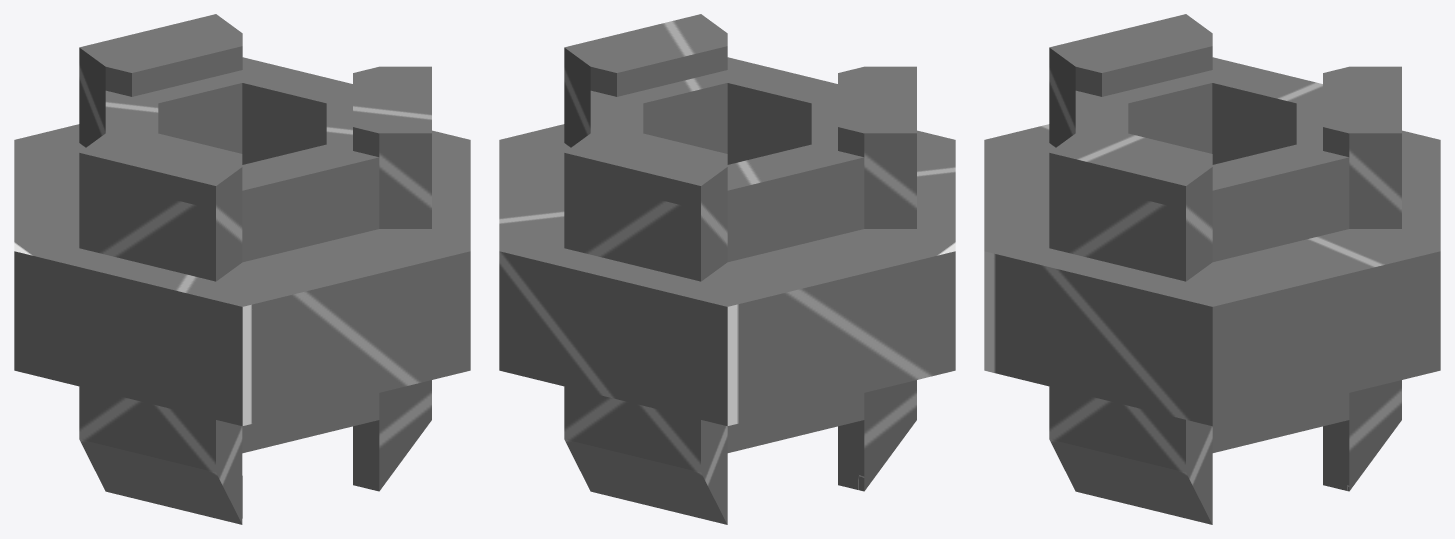
The model's file is XOLOTL-79-Lower-Hull.obj.
The picture shows the model from 3 angles, left to right: view 1: azimuth 30°, elevation 25°; view 2: azimuth 150°, elevation 25°; view 3: azimuth 270°, elevation 25°; orthographic projection.
Visible parts, largest first — view 1: XOLOTL-79-Lower-Hull; view 2: XOLOTL-79-Lower-Hull; view 3: XOLOTL-79-Lower-Hull.
Part boxes in pixels (x1,y1,x2,y2): XOLOTL-79-Lower-Hull: (14, 14, 470, 524); XOLOTL-79-Lower-Hull: (499, 14, 955, 524); XOLOTL-79-Lower-Hull: (984, 14, 1440, 524).
Bounding box in the file's own units: 1 × 0.75 × 0.866.
